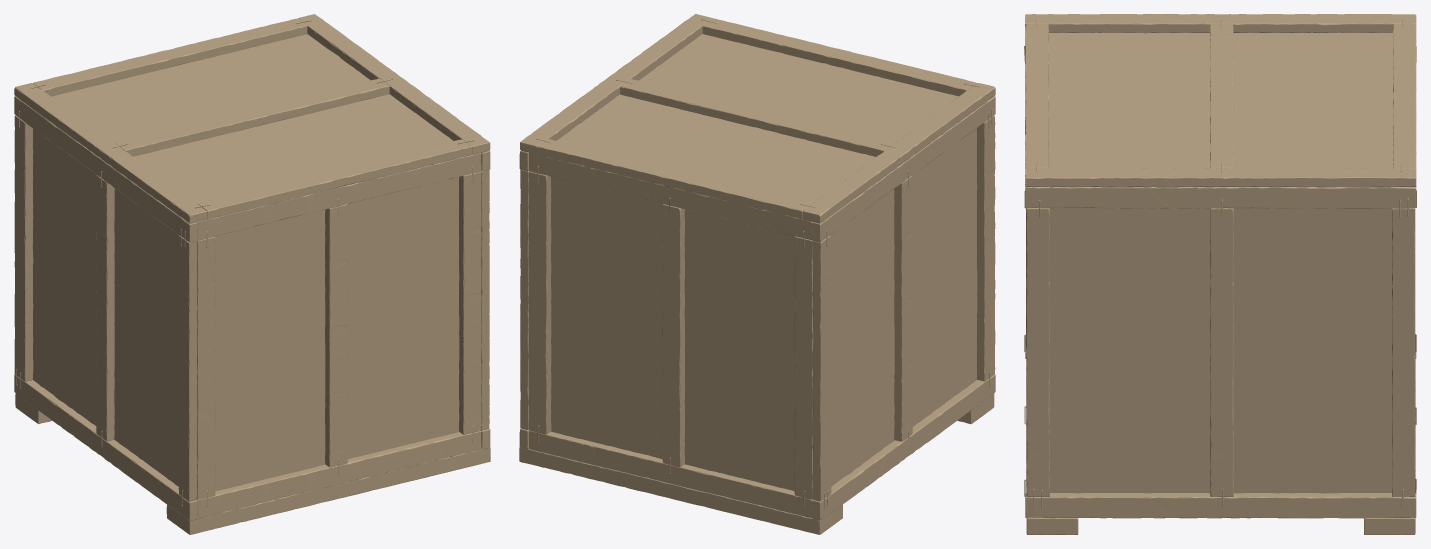
The model's file is crate_plywood_b01.glb.
3 views of the same model, side by side, from view 1: azimuth 30°, elevation 25°; view 2: azimuth 150°, elevation 25°; view 3: azimuth 270°, elevation 25° (orthographic). The views are drawn at different scales.
Visible parts, largest first — view 1: sm_crate_b01_mesh_00; view 2: sm_crate_b01_mesh_00; view 3: sm_crate_b01_mesh_00.
Boxes of the visible parts, x1,y1,x2,y2 form: sm_crate_b01_mesh_00: [14, 14, 490, 534]; sm_crate_b01_mesh_00: [519, 14, 995, 534]; sm_crate_b01_mesh_00: [1024, 14, 1416, 534].
Bounding box in the file's own units: 1 × 1.02 × 1.01.
